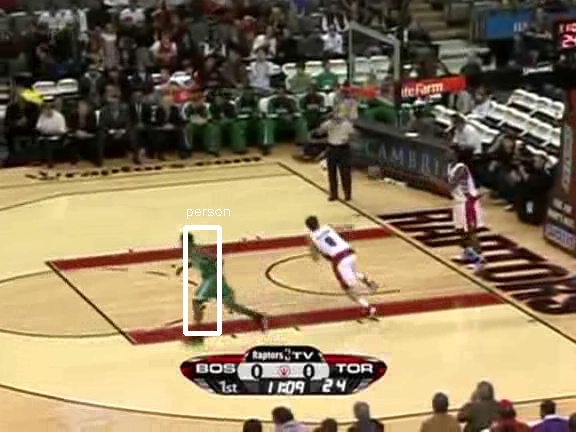person: (189, 237, 223, 318), (188, 237, 222, 318), (190, 237, 224, 318), (189, 236, 223, 317), (189, 238, 223, 319)
target_negative: (500, 14, 568, 383), (332, 177, 563, 228), (332, 194, 519, 236), (82, 266, 344, 290), (478, 214, 511, 381), (301, 396, 338, 397)
